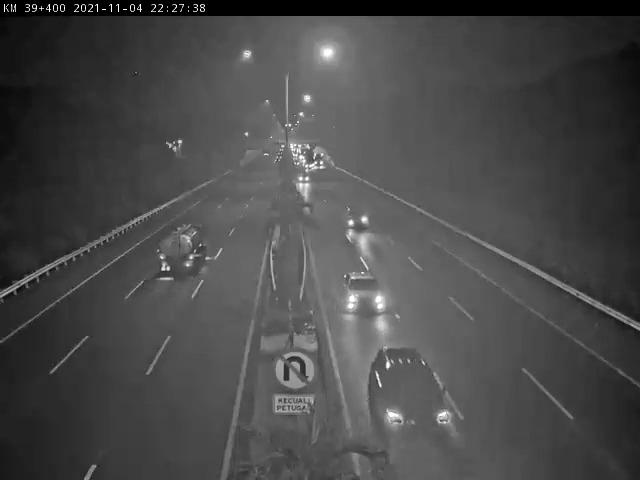car: (369, 347, 449, 437), (343, 272, 386, 313), (345, 208, 370, 230)
mid truck: (159, 227, 206, 275)
